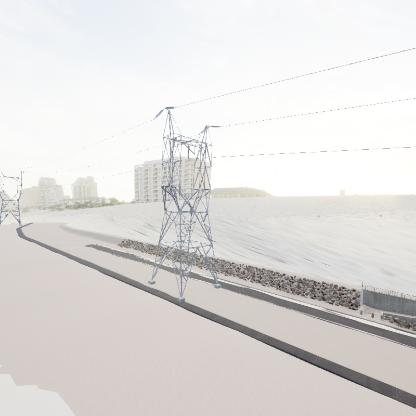tower: (147, 104, 225, 306)
